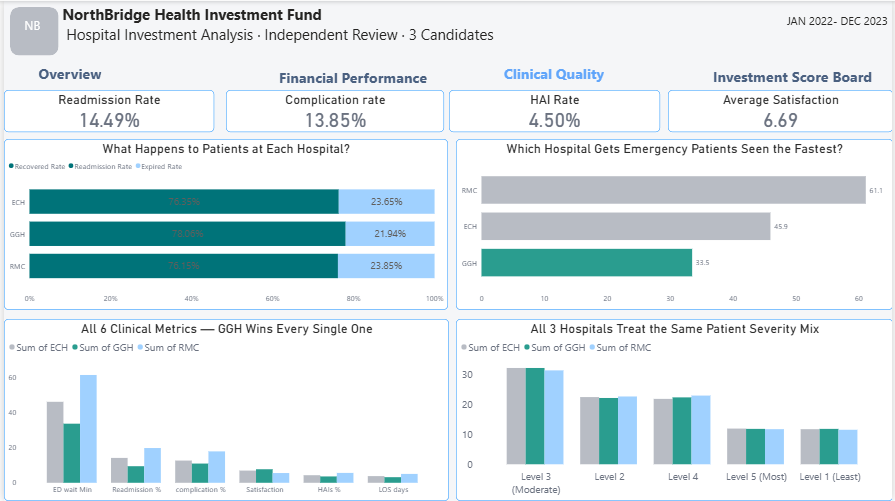

This screenshot's page, from the dashboard's own definition file:
{"tool":"powerbi","page":{"name":"Clinical quality","canvas":[1920,1080],"ordinal":2},"visuals":[{"type":"textbox","box":[121.3,0,874.8,54],"z":0,"group":"g1"},{"type":"shape","box":[0,6.5,1920.2,118.8],"z":0},{"type":"shape","box":[12,12,105,105],"z":1000},{"type":"textbox","box":[129.2,43.2,1015.2,73.4],"z":1000,"group":"g1"},{"type":"group","id":"g1","title":"Group 1","box":[121.3,0,1796.4,116.6],"z":2000},{"type":"textbox","box":[1293.5,6.5,624.2,110.2],"z":2000,"group":"g1"},{"type":"shape","box":[0,125.3,1920.2,54],"z":3000},{"type":"actionButton","box":[559.4,140.4,388.8,41],"z":4000},{"type":"actionButton","box":[995.8,131.8,384.5,47.5],"z":5000},{"type":"actionButton","box":[1488.2,138.2,429.8,47.5],"z":6000},{"type":"card","title":"Complication rate","fields":{"Values":["Measure.Complication Rate"]},"box":[479.5,192.2,470.9,90.7],"z":8000},{"type":"card","title":"Readmission Rate","fields":{"Values":["Measure.Readmission Rate"]},"box":[0,192.2,453.6,90.7],"z":9000},{"type":"card","title":"HAI Rate ","fields":{"Values":["Measure.HAI Rate"]},"box":[961.2,192.2,455.8,90.7],"z":10000},{"type":"card","title":"Average Satisfaction","fields":{"Values":["Measure.Avg Satisfaction"]},"box":[1434.2,192.2,486,90.7],"z":11000},{"type":"hundredPercentStackedBarChart","title":"What Happens to Patients at Each Hospital?","fields":{"Category":["combined_hospitals_clean.hospital_code"],"Y":["Measure.Recovered Rate","Measure.Readmission Rate","Measure.Expired Rate"]},"box":[0,298.1,959,369.4],"z":12000},{"type":"clusteredBarChart","title":"Which Hospital Gets Emergency Patients Seen the Fastest?","fields":{"Y":["Measure.Avg ED Wait (mins)"],"Category":["combined_hospitals_clean.hospital_code"]},"box":[976.3,298.1,943.9,369.4],"z":13000},{"type":"clusteredColumnChart","title":"All 6 Clinical Metrics — GGH Wins Every Single One","fields":{"Category":["Clinical matrics.Matric"],"Y":["Sum(Clinical matrics.ECH)","Sum(Clinical matrics.GGH)","Sum(Clinical matrics.RMC)"]},"box":[0,686.9,961.2,393.1],"z":14000},{"type":"clusteredColumnChart","title":"All 3 Hospitals Treat the Same Patient Severity Mix","fields":{"Category":["Severity Data.Severity"],"Y":["Sum(Severity Data.ECH)","Sum(Severity Data.GGH)","Sum(Severity Data.RMC)"]},"box":[976.3,686.9,943.9,393.1],"z":15000},{"type":"actionButton","box":[17.3,131.8,250.6,41],"z":16000},{"type":"textbox","box":[16.6,27.6,88.3,88.3],"z":17000}]}

Visuals, with their boxes in screenshot pixels (x1, y1, x2, y2), scaled from the page's 1920x1080 canvas onto the 895x501 screenshot:
textbox: detection(57, 0, 464, 25)
shape: detection(0, 3, 894, 58)
shape: detection(6, 6, 55, 54)
textbox: detection(60, 20, 533, 54)
"Group 1" group: detection(57, 0, 894, 54)
textbox: detection(603, 3, 894, 54)
shape: detection(0, 58, 894, 83)
actionButton: detection(261, 65, 442, 84)
actionButton: detection(464, 61, 643, 83)
actionButton: detection(694, 64, 894, 86)
"Complication rate" card: detection(224, 89, 443, 131)
"Readmission Rate" card: detection(0, 89, 211, 131)
"HAI Rate " card: detection(448, 89, 661, 131)
"Average Satisfaction" card: detection(669, 89, 894, 131)
"What Happens to Patients at Each Hospital?" hundredPercentStackedBarChart: detection(0, 138, 447, 310)
"Which Hospital Gets Emergency Patients Seen the Fastest?" clusteredBarChart: detection(455, 138, 894, 310)
"All 6 Clinical Metrics — GGH Wins Every Single One" clusteredColumnChart: detection(0, 319, 448, 500)
"All 3 Hospitals Treat the Same Patient Severity Mix" clusteredColumnChart: detection(455, 319, 894, 500)
actionButton: detection(8, 61, 125, 80)
textbox: detection(8, 13, 49, 54)
